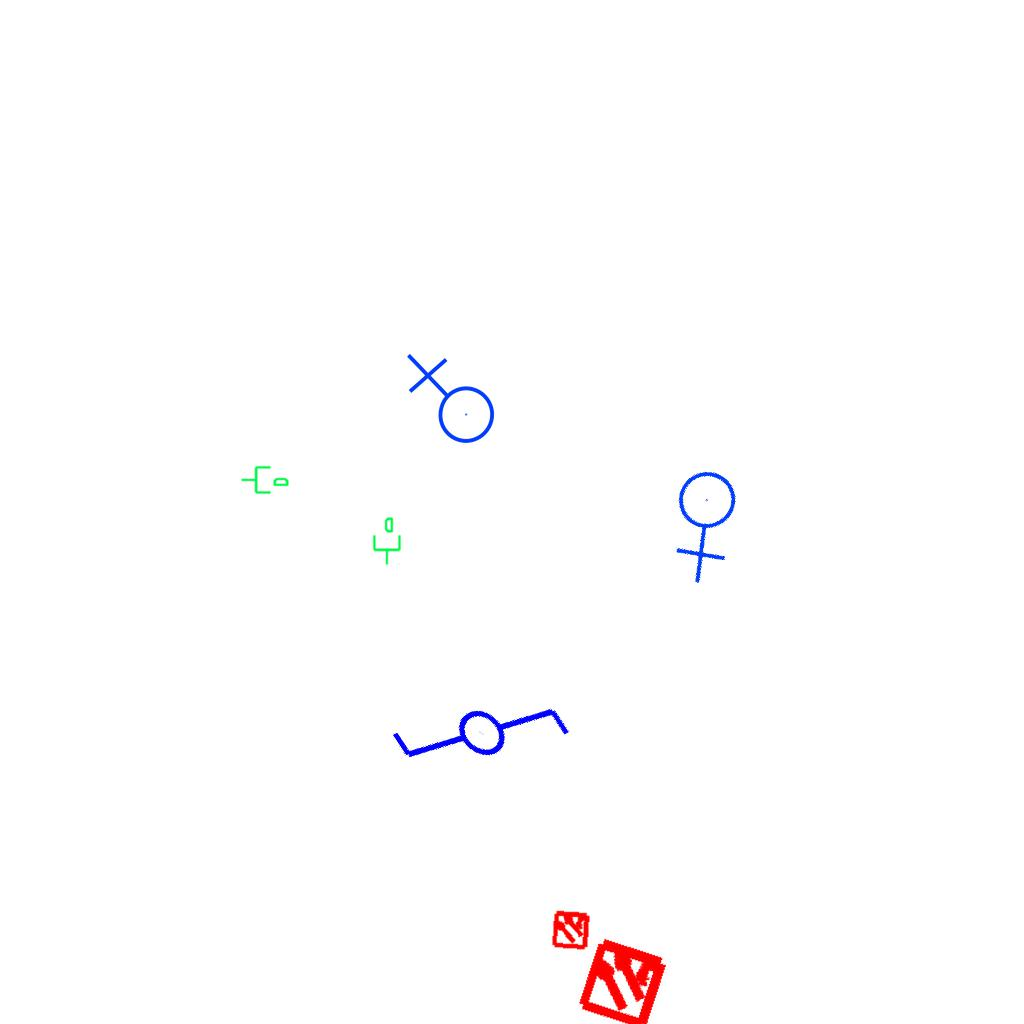Datenanschluss_einfach: (240, 462, 290, 496), (369, 516, 403, 566)
Elektroanschluss_allgemein_230V_Geraeteanschlussdose_230V: (640, 453, 777, 589), (402, 353, 496, 452)
OT_Multisensormelder_(Kombination_RMO_WMD): (552, 910, 695, 1024), (541, 899, 601, 959)
Wechselschalter: (380, 634, 593, 846)
